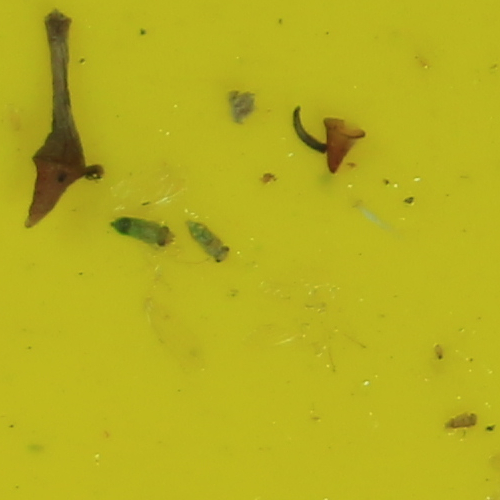Glycaspis: (112, 217, 177, 250)
